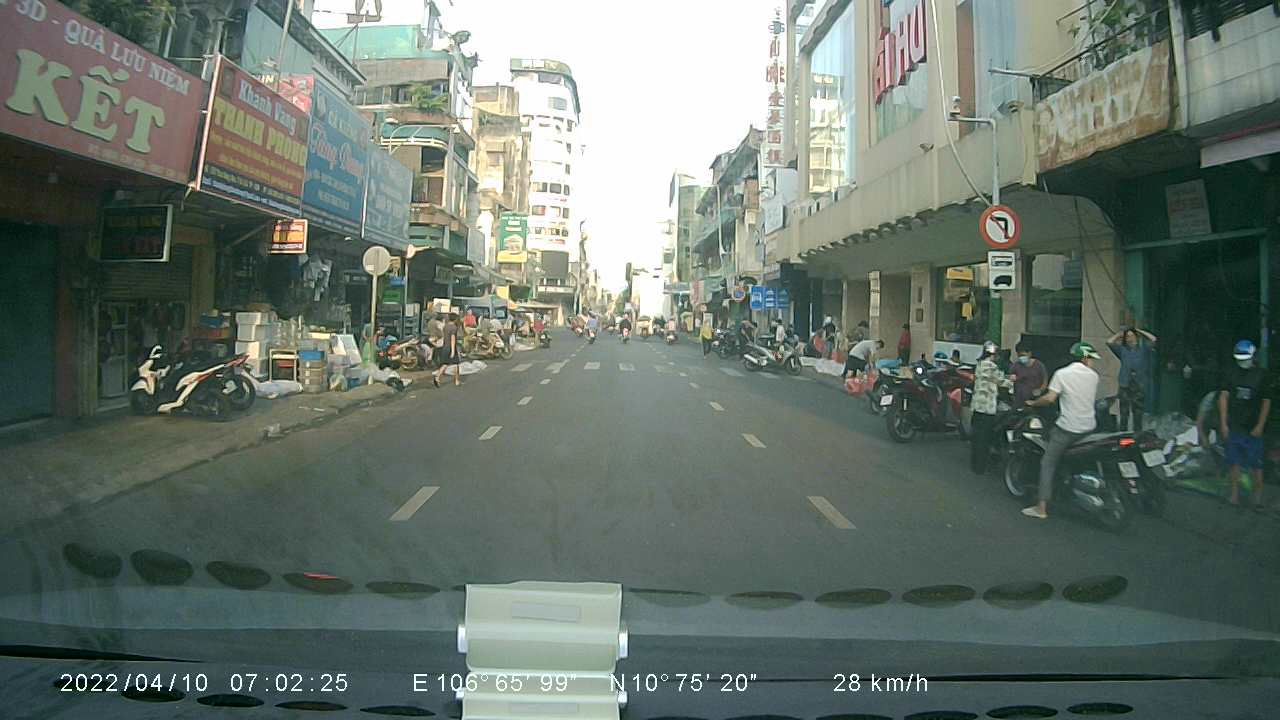Bien khac: (977, 201, 1020, 250)
